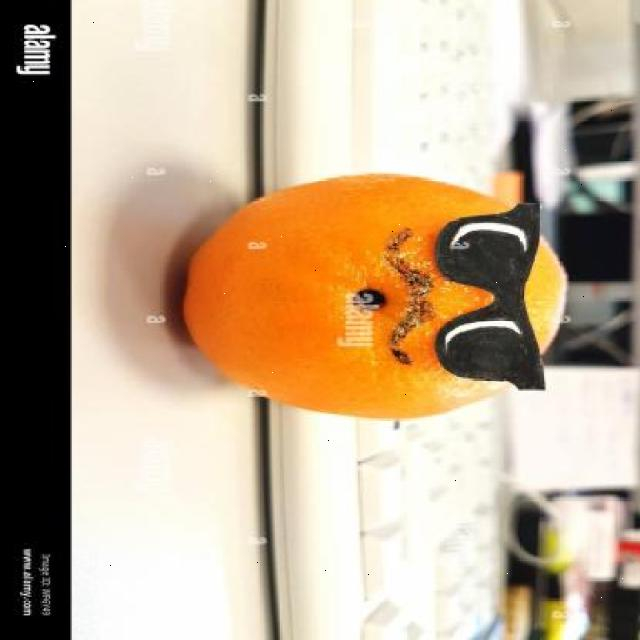Orange: (180, 171, 571, 420)
